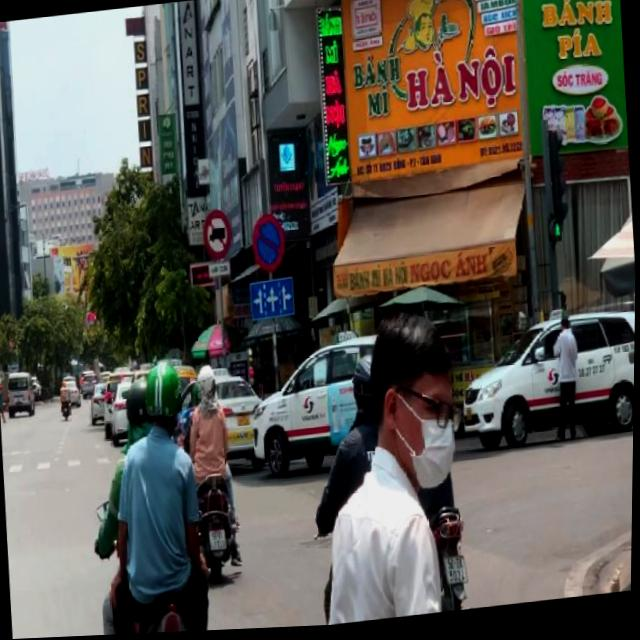Cam do xe: (251, 214, 288, 275)
Cam xe tai: (200, 207, 234, 263)
